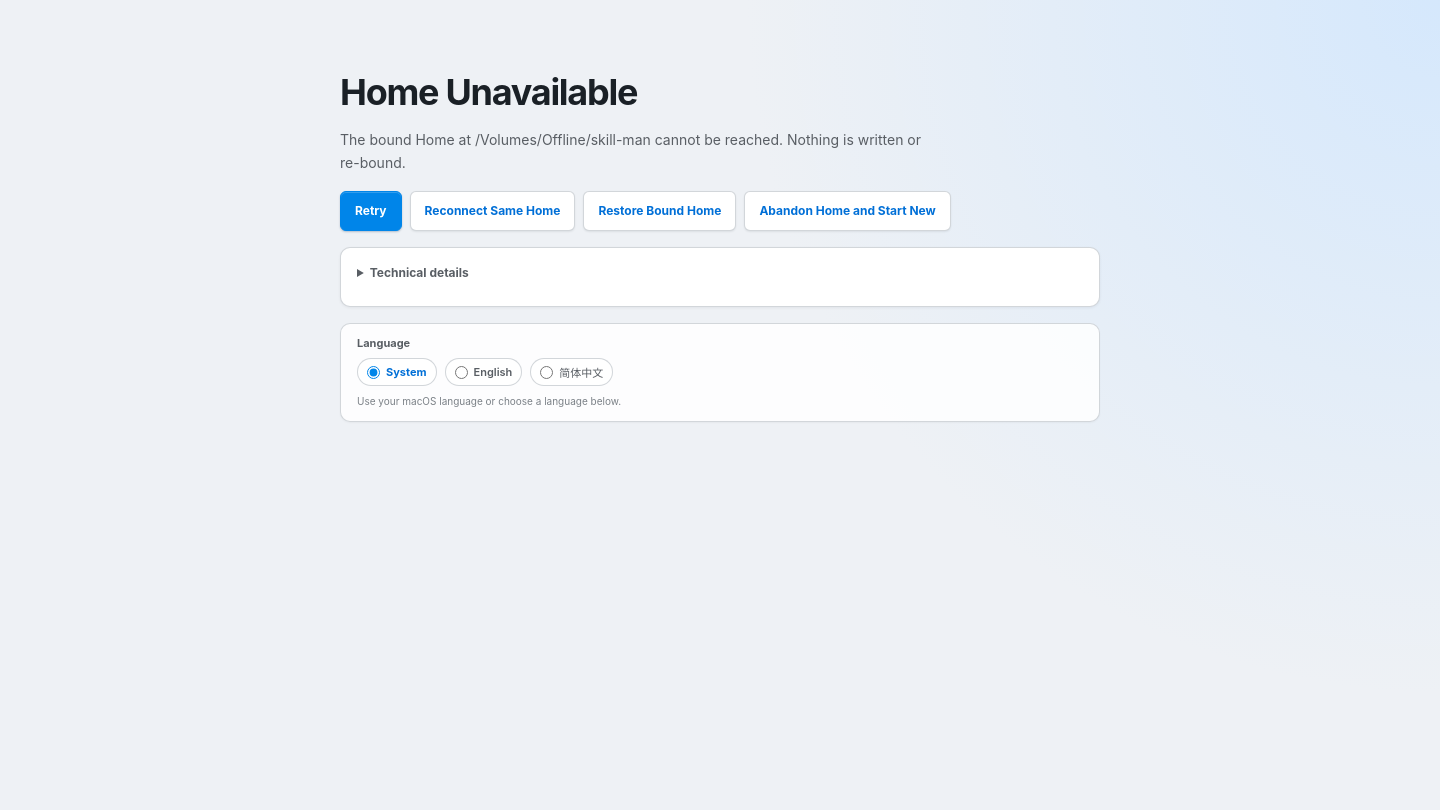
it: Abandon opens the high-friction dialog
Click the button "Abandon Home and Start New" at (848, 210), box left=744, top=190, right=951, bottom=230
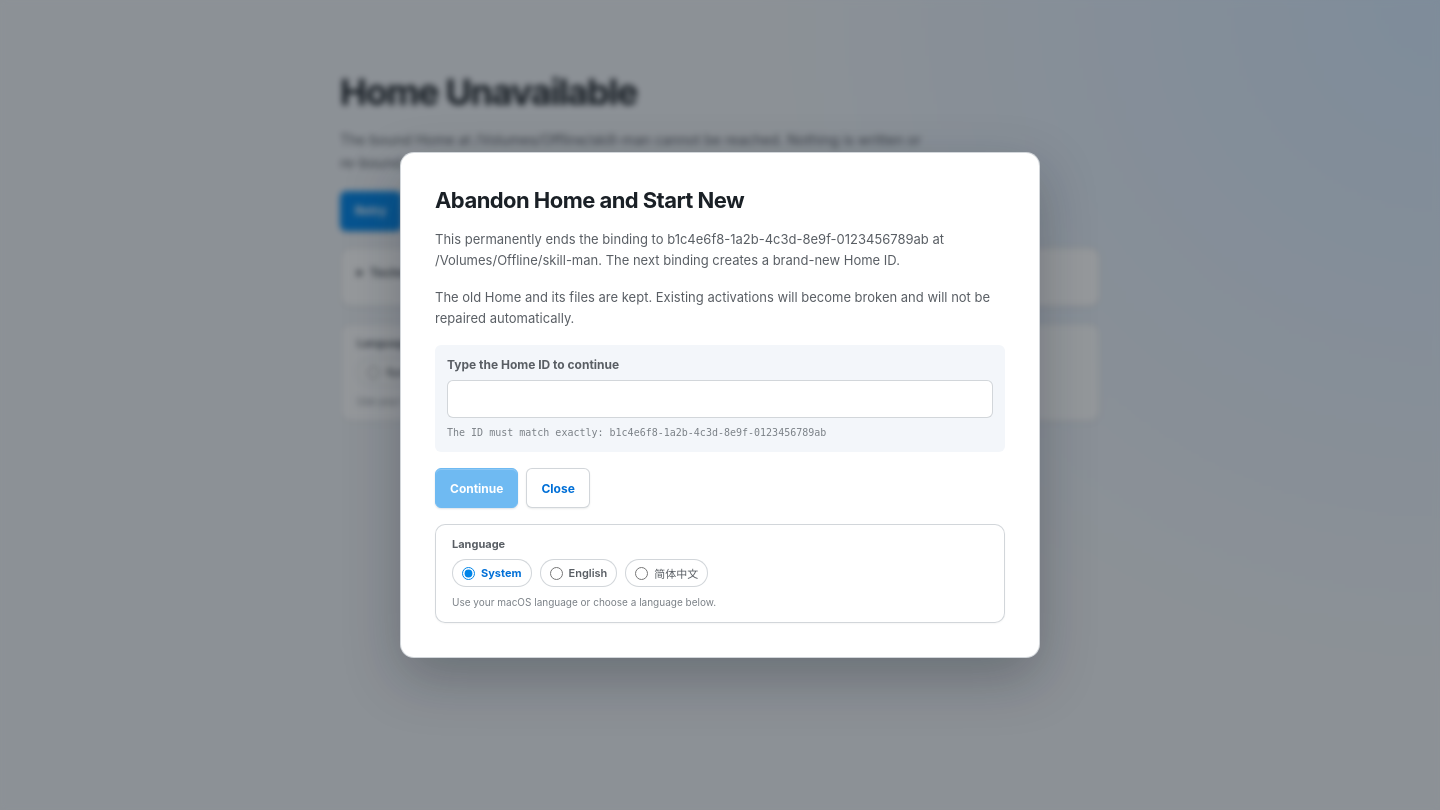
Result: the dialog is shown at left=400, top=152, right=1040, bottom=658
Result: the field labelled "Type the Home ID to continue" is shown at left=447, top=380, right=993, bottom=418
